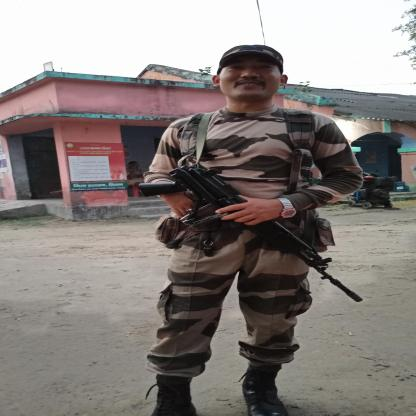rifle: (136, 161, 365, 303)
